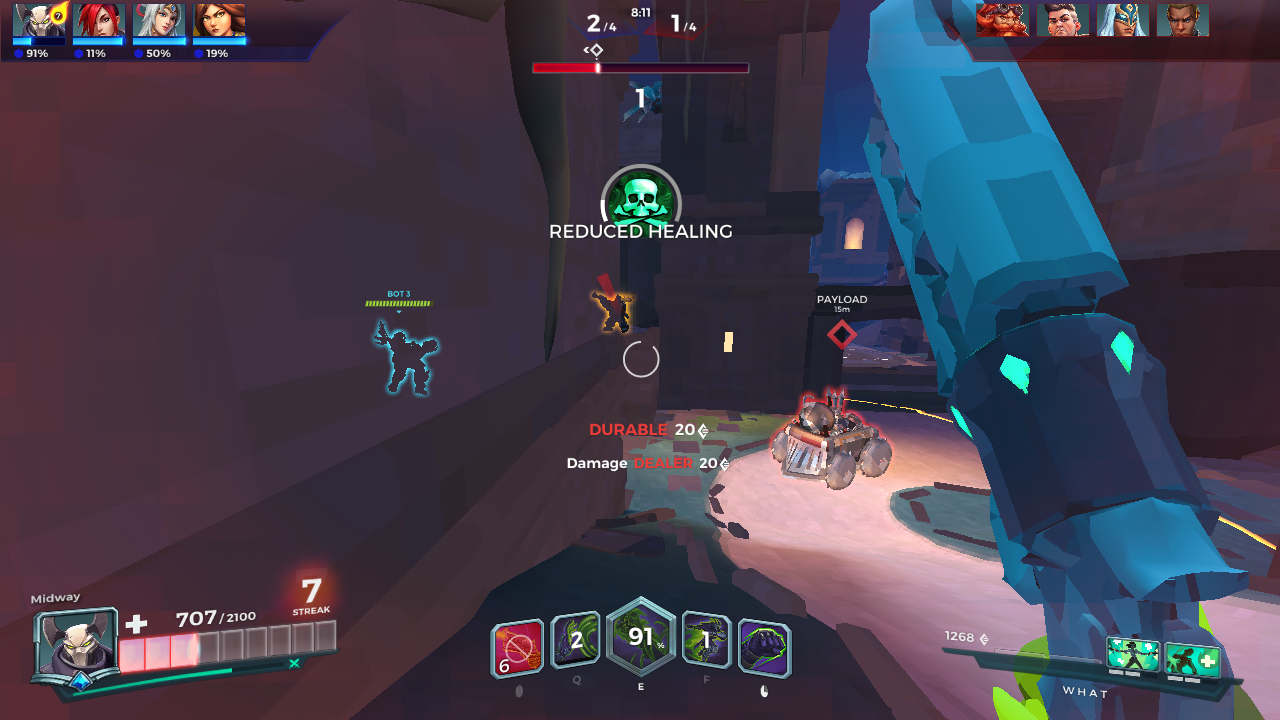model: (591, 287, 635, 348)
